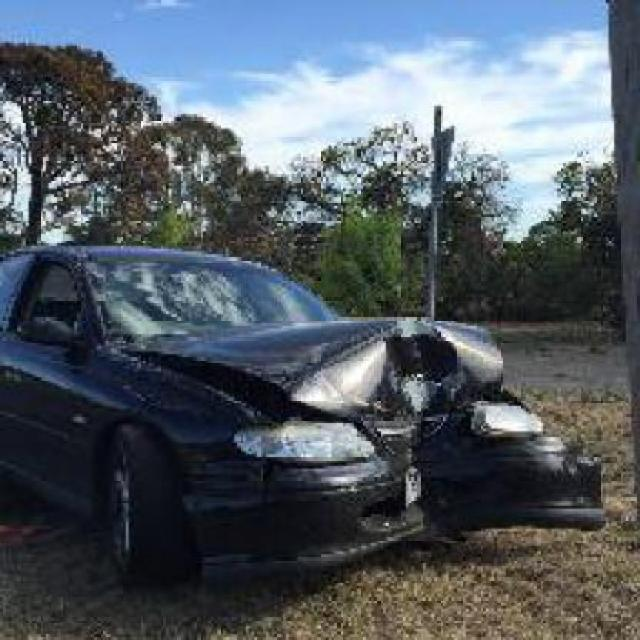damaged-front-bumper: (168, 436, 610, 558)
damaged-hood: (155, 310, 531, 418)
